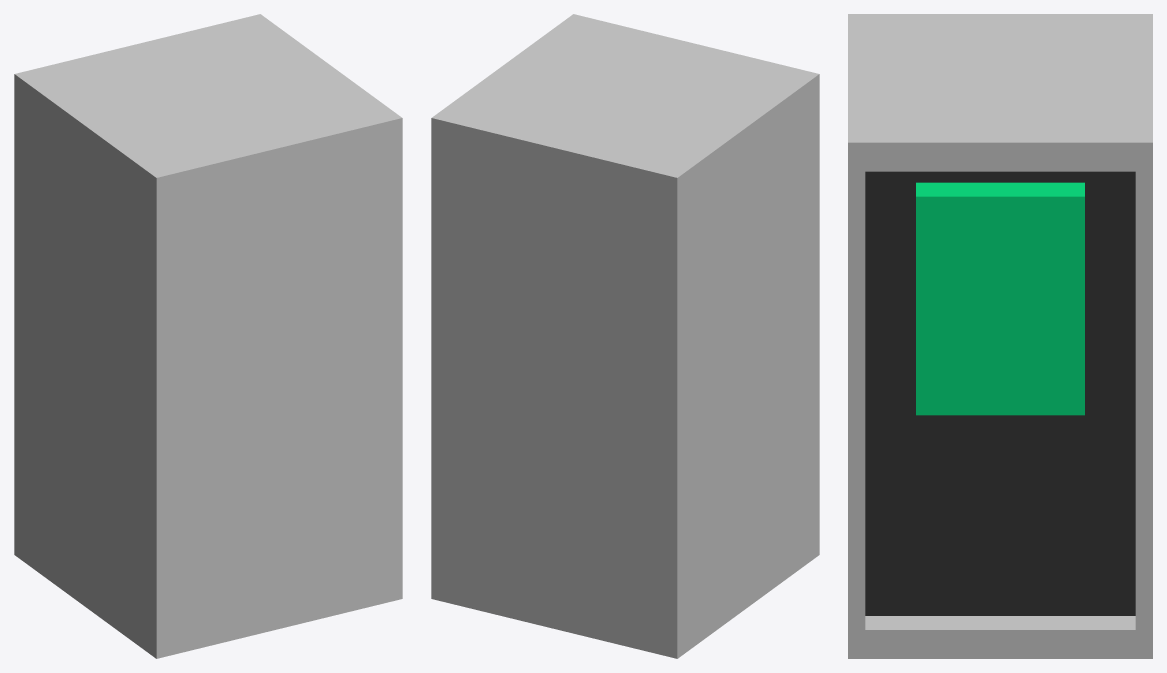
File: switchon.fbx
The picture shows the model from 3 angles, left to right: view 1: azimuth 30°, elevation 25°; view 2: azimuth 150°, elevation 25°; view 3: azimuth 270°, elevation 25°; orthographic projection. The views are drawn at different scales.
Visible parts, largest first — view 1: Cube; view 2: Cube; view 3: Cube.
Boxes of the visible parts, x1,y1,x2,y2 form: Cube: (14, 14, 402, 658); Cube: (431, 14, 819, 658); Cube: (848, 14, 1152, 658).
Bounding box in the file's own units: 2 × 3.74 × 2.
